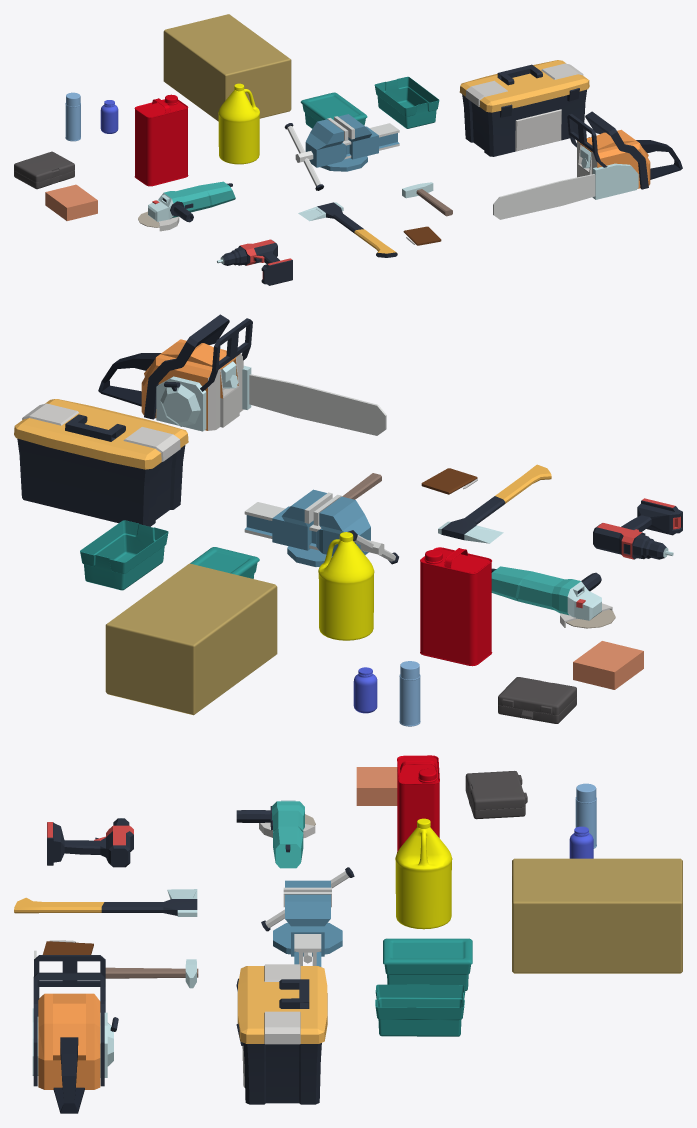
The model's file is Main.fbx.
3 views of the same model, one above another, from view 1: azimuth 30°, elevation 25°; view 2: azimuth 150°, elevation 25°; view 3: azimuth 270°, elevation 25° (orthographic). The views are drawn at different scales.
Visible parts, largest first — view 1: CardboardBox, Box002, Box008, OilCan.002, Box005, GallonJug, Box006, StorageContainer_Open.002, Box007, ToolCase, AmmoBoxB.001, StorageContainer_Closed.006 (+5 smaller); view 2: CardboardBox, Box002, Box008, OilCan.002, Box005, GallonJug, Box006, StorageContainer_Open.002, Box007, ToolCase, AmmoBoxB.001, Box001 (+4 smaller); view 3: CardboardBox, Box002, Box008, GallonJug, Box005, StorageContainer_Open.002, StorageContainer_Closed.006, OilCan.002, Box006, ToolCase, Box001, Box007 (+5 smaller).
Boxes of the visible parts, x1=… form: CardboardBox: x1=163, y1=14, x2=291, y2=121; Box002: x1=459, y1=60, x2=589, y2=156; Box008: x1=493, y1=111, x2=682, y2=219; OilCan.002: x1=134, y1=94, x2=188, y2=186; Box005: x1=284, y1=114, x2=399, y2=190; GallonJug: x1=218, y1=83, x2=259, y2=164; Box006: x1=138, y1=181, x2=235, y2=231; StorageContainer_Open.002: x1=374, y1=76, x2=439, y2=128; Box007: x1=217, y1=239, x2=292, y2=285; ToolCase: x1=14, y1=151, x2=74, y2=189; AmmoBoxB.001: x1=45, y1=184, x2=97, y2=220; StorageContainer_Closed.006: x1=300, y1=92, x2=367, y2=128; CardboardBox: x1=105, y1=563, x2=277, y2=715; Box002: x1=14, y1=399, x2=188, y2=526; Box008: x1=98, y1=314, x2=386, y2=435; OilCan.002: x1=420, y1=547, x2=492, y2=666; Box005: x1=244, y1=489, x2=398, y2=566; GallonJug: x1=318, y1=532, x2=374, y2=640; Box006: x1=491, y1=566, x2=615, y2=628; StorageContainer_Open.002: x1=80, y1=520, x2=168, y2=590; Box007: x1=593, y1=498, x2=682, y2=559; ToolCase: x1=498, y1=677, x2=576, y2=723; AmmoBoxB.001: x1=573, y1=641, x2=643, y2=689; Box001: x1=438, y1=464, x2=551, y2=543; CardboardBox: x1=512, y1=858, x2=682, y2=973; Box002: x1=236, y1=964, x2=327, y2=1104; Box008: x1=32, y1=950, x2=118, y2=1113; GallonJug: x1=395, y1=818, x2=452, y2=929; Box005: x1=261, y1=867, x2=354, y2=966; StorageContainer_Open.002: x1=375, y1=984, x2=465, y2=1036; StorageContainer_Closed.006: x1=383, y1=938, x2=472, y2=990; OilCan.002: x1=397, y1=755, x2=439, y2=852; Box006: x1=236, y1=800, x2=315, y2=868; ToolCase: x1=465, y1=771, x2=527, y2=819; Box001: x1=14, y1=889, x2=197, y2=916; Box007: x1=47, y1=818, x2=133, y2=867.
Size of the model in its own units: 446 by 66.65 by 372.
